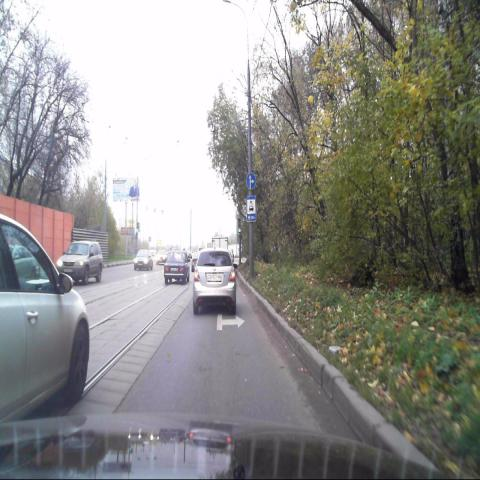7_5: (246, 195, 256, 222)
